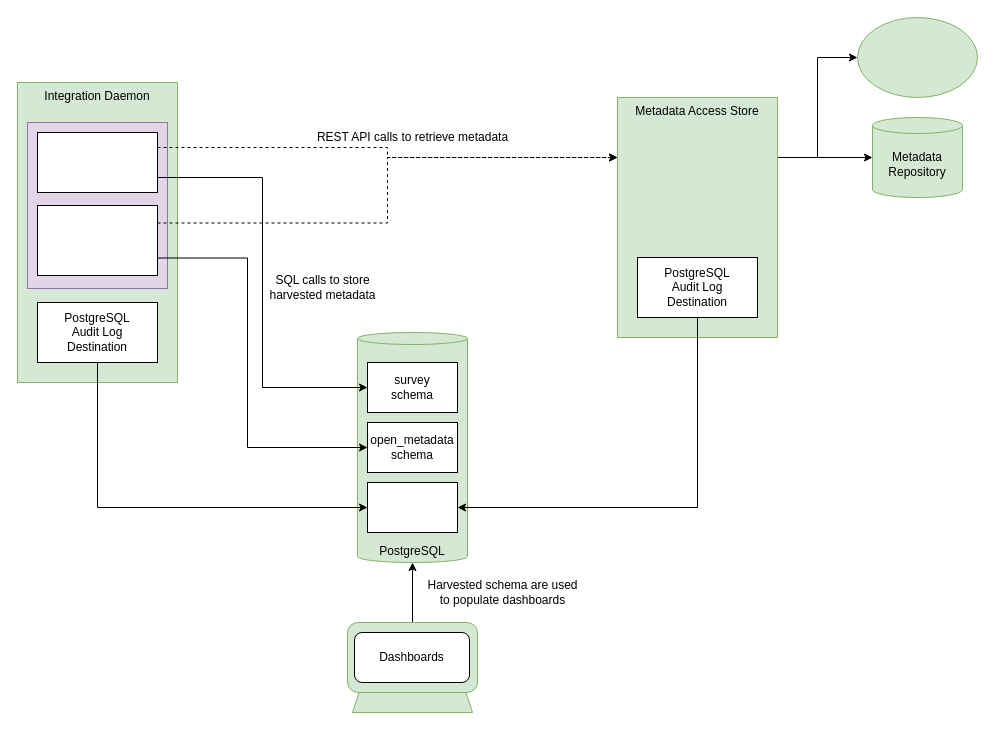
This 995x730 diagram has some shape labels left out. Here are the shapes that lost their labels. From the top down, the centre of each, then its label:
At point 917,57: "Cohort".
At point 97,162: "Harvest Surveys Integration Connector".
At point 97,240: "Harvest Open Metadata Ecosystem Integration Connector".
At point 412,507: "audit_logs schema".
